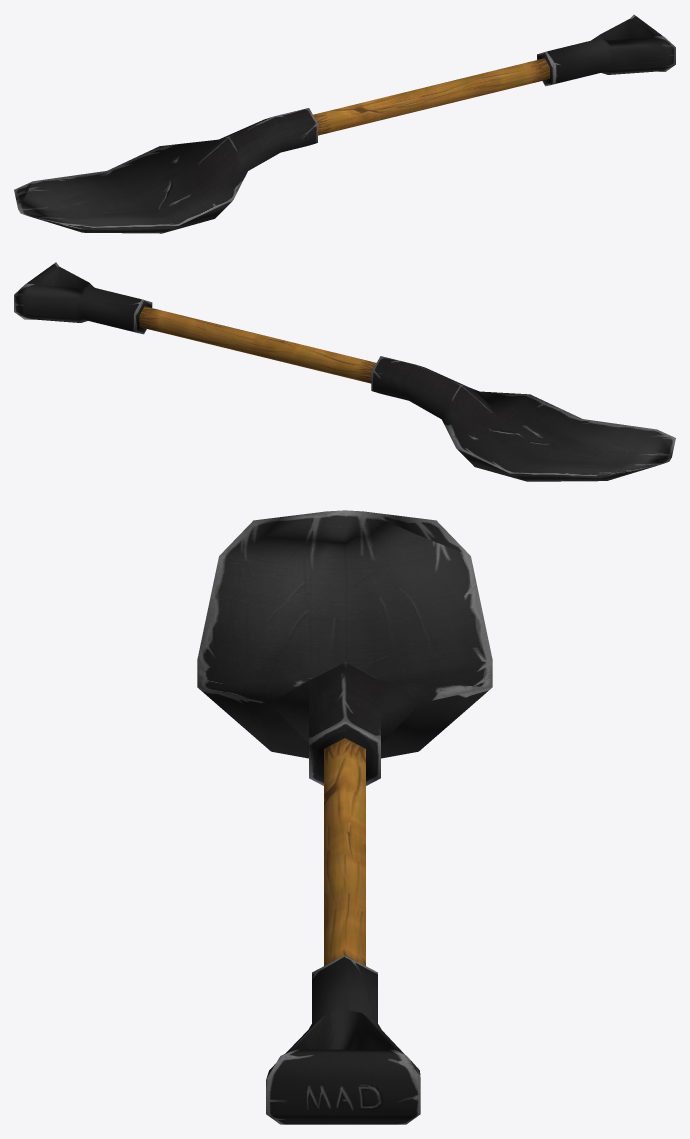
3 renders of one model, top to bottom at view 1: azimuth 30°, elevation 25°; view 2: azimuth 150°, elevation 25°; view 3: azimuth 270°, elevation 25°, orthographic. The views are drawn at different scales.
Parts seen in each view (by area): view 1: CA_OPE_Props_Fazenda; view 2: CA_OPE_Props_Fazenda; view 3: CA_OPE_Props_Fazenda.
Part boxes in pixels (x1,y1,x2,y2): CA_OPE_Props_Fazenda: (14,14,675,233); CA_OPE_Props_Fazenda: (14,262,675,481); CA_OPE_Props_Fazenda: (197,510,492,1124).
Bounding box in the file's own units: 2.59 × 0.3091 × 0.5207.
